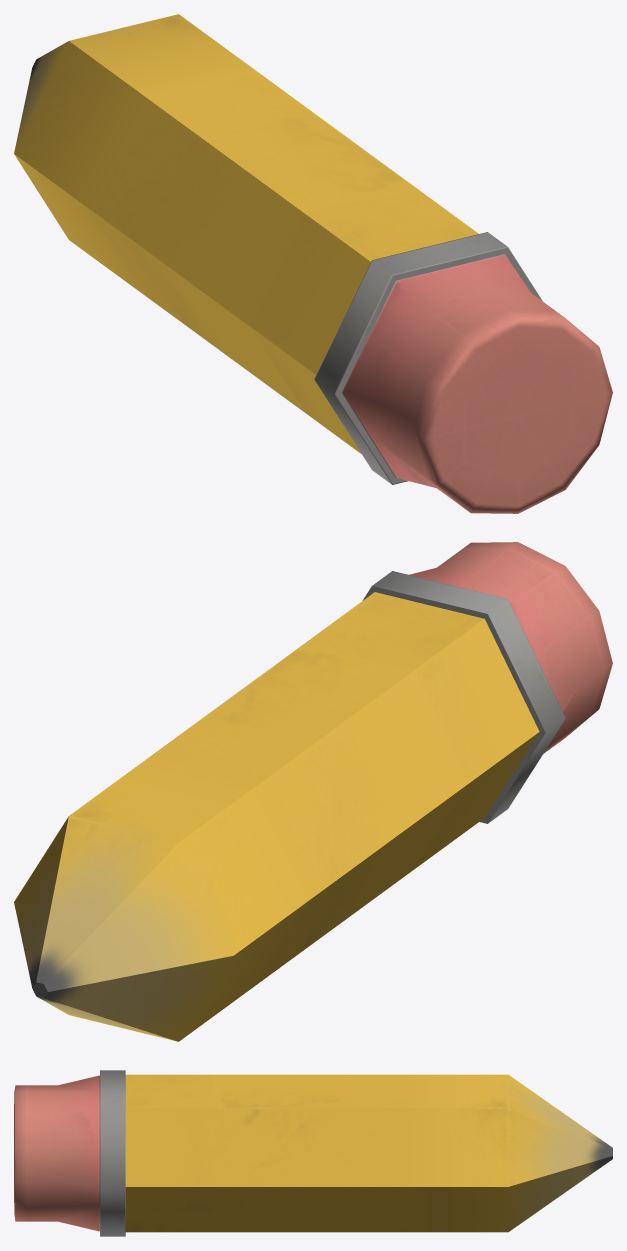
File: PencilColor_v2.fbx
3 views of the same model, one above another, from view 1: azimuth 30°, elevation 25°; view 2: azimuth 150°, elevation 25°; view 3: azimuth 270°, elevation 25° (orthographic). The views are drawn at different scales.
Parts seen in each view (by area): view 1: polySurface5, polySurface4, polySurface3; view 2: polySurface3, polySurface4, polySurface5; view 3: polySurface4, polySurface5, polySurface3.
Part boxes in pixels (x1,y1,x2,y2): polySurface5: (248,186,612,513); polySurface4: (91,72,414,412); polySurface3: (14,14,257,297); polySurface3: (14,758,312,1041); polySurface4: (148,644,467,984); polySurface5: (303,542,612,868); polySurface4: (213,1074,411,1232); polySurface5: (14,1070,215,1236); polySurface3: (409,1074,612,1232).
Size of the model in its own units: 79.66 by 68.99 by 286.
